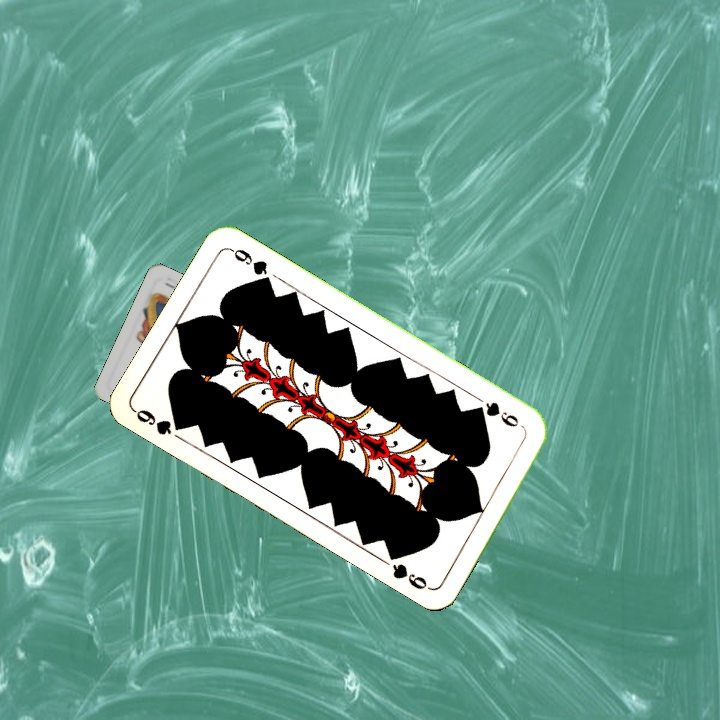G9: (130, 405, 189, 438), (471, 397, 522, 430)
